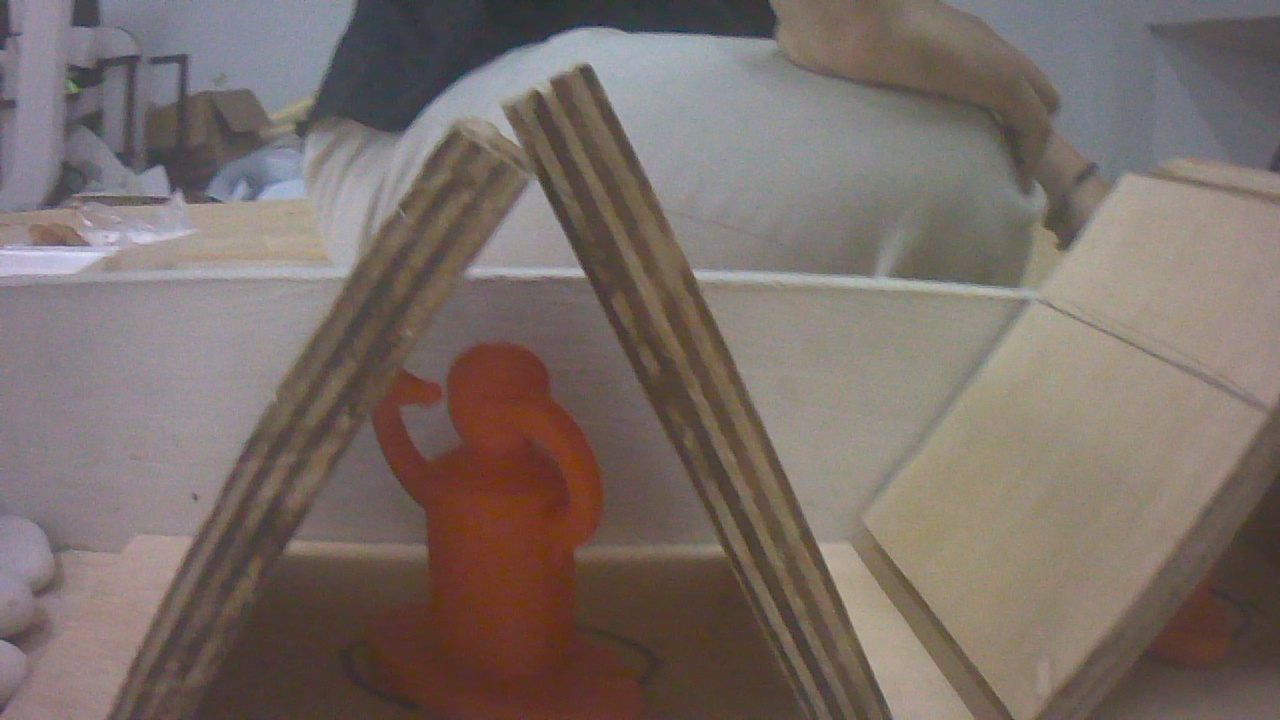real: (372, 338, 621, 720)
